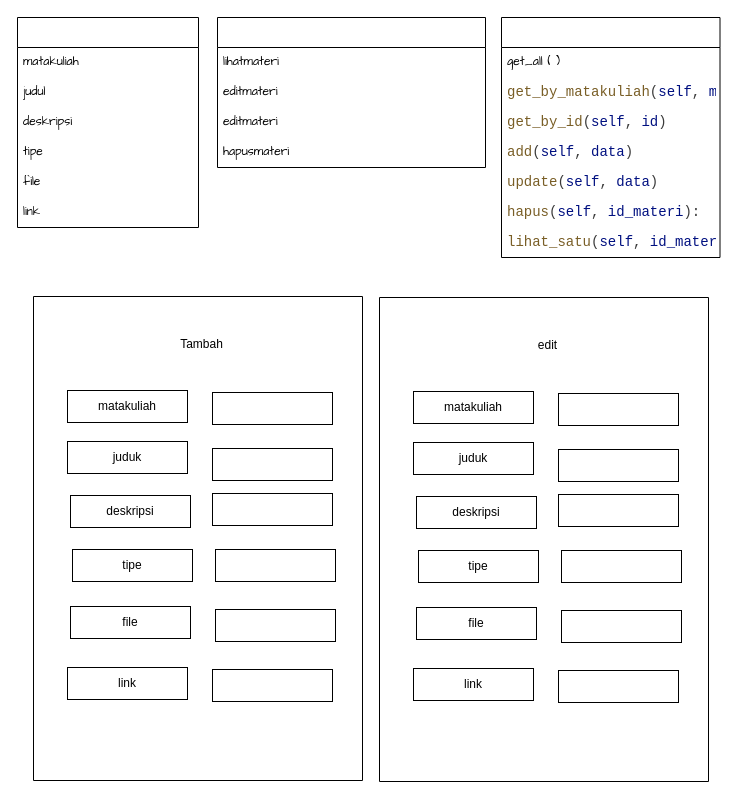
This 742x799 diagram has some shape labels left out. The shapes that lost their labels are listed below. From the top down, each one's box as (x1, y1, x2, y2) in pixels, then its label:
(216, 16, 486, 168): usecasemateri
(16, 16, 198, 228): entitas
(500, 16, 720, 258): MateriRepository
